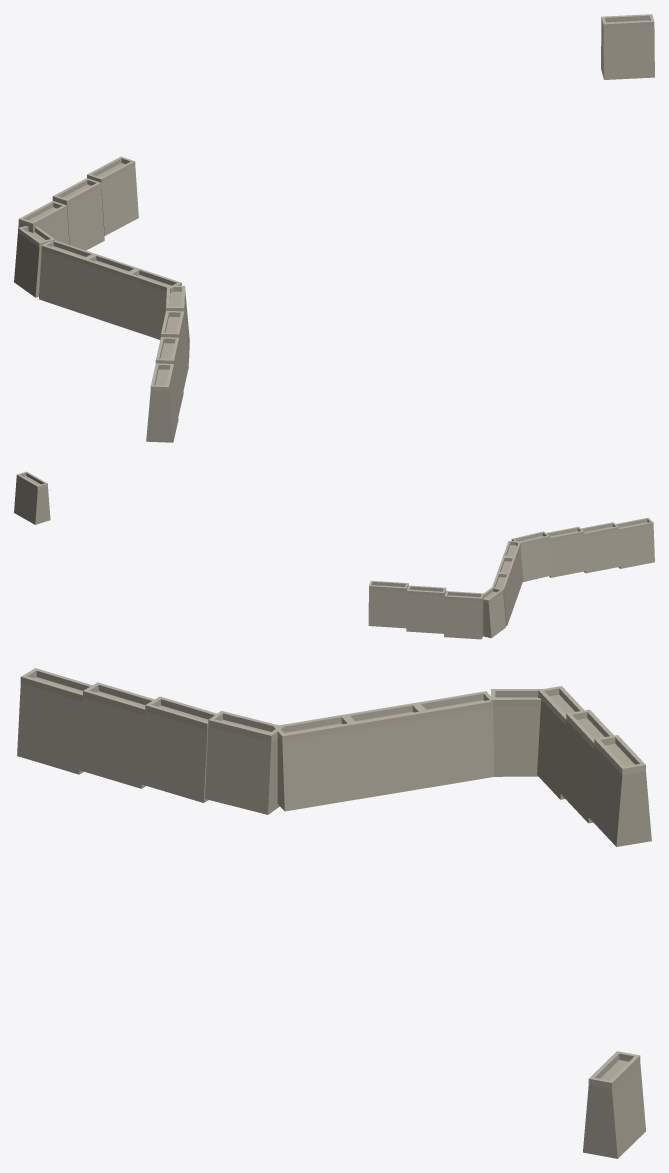
File: bormla_62_33_collision.glb
3 views of the same model, one above another, from view 1: azimuth 30°, elevation 25°; view 2: azimuth 150°, elevation 25°; view 3: azimuth 270°, elevation 25° (orthographic). The views are drawn at different scales.
Parts seen in each view (by area): view 1: geometry_0; view 2: geometry_0; view 3: geometry_0.
Boxes of the visible parts, bbox=[...] form: geometry_0: bbox=[14, 14, 654, 442]; geometry_0: bbox=[14, 471, 654, 639]; geometry_0: bbox=[17, 668, 651, 1158].
Size of the model in its own units: 180 by 24.86 by 99.89.
